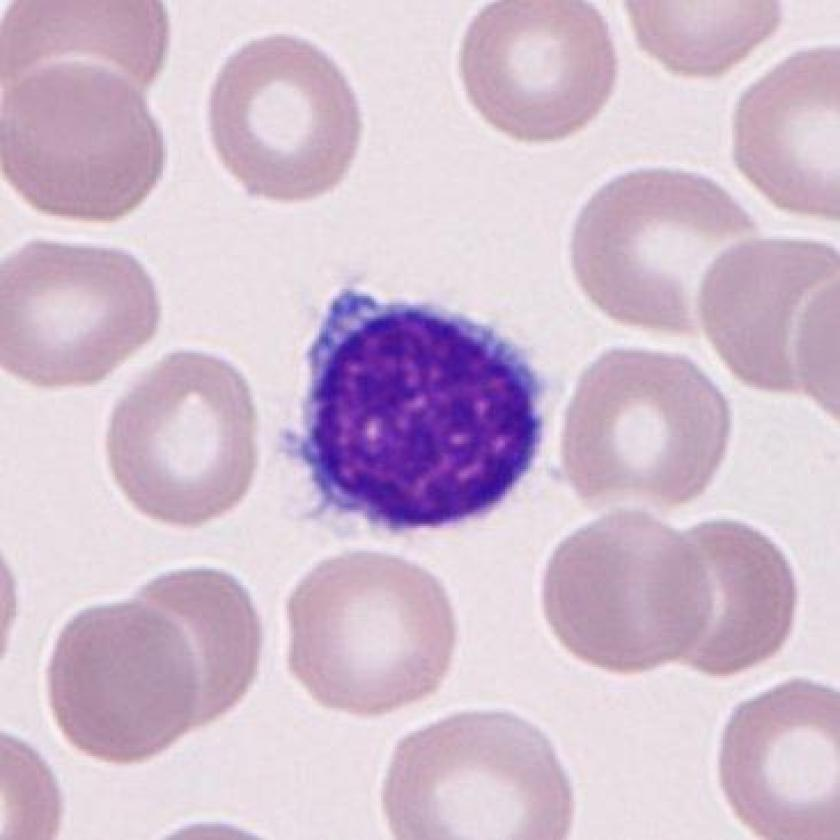lymphocyte: (274, 270, 563, 563)
